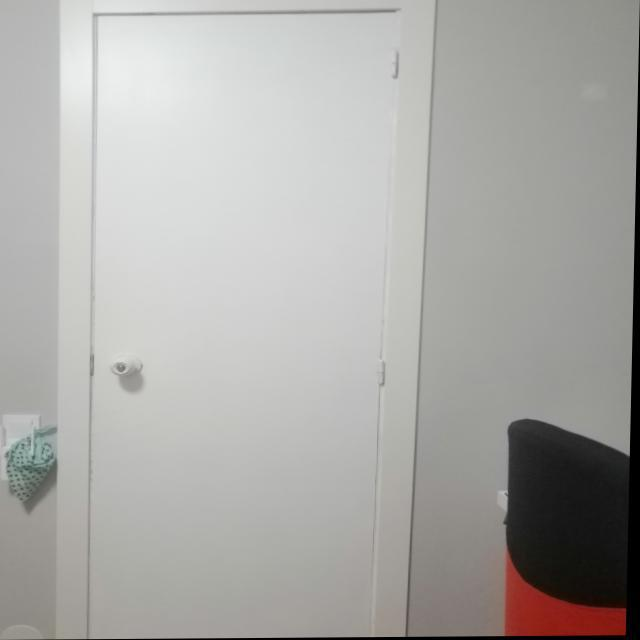door_handle: (104, 354, 151, 384)
